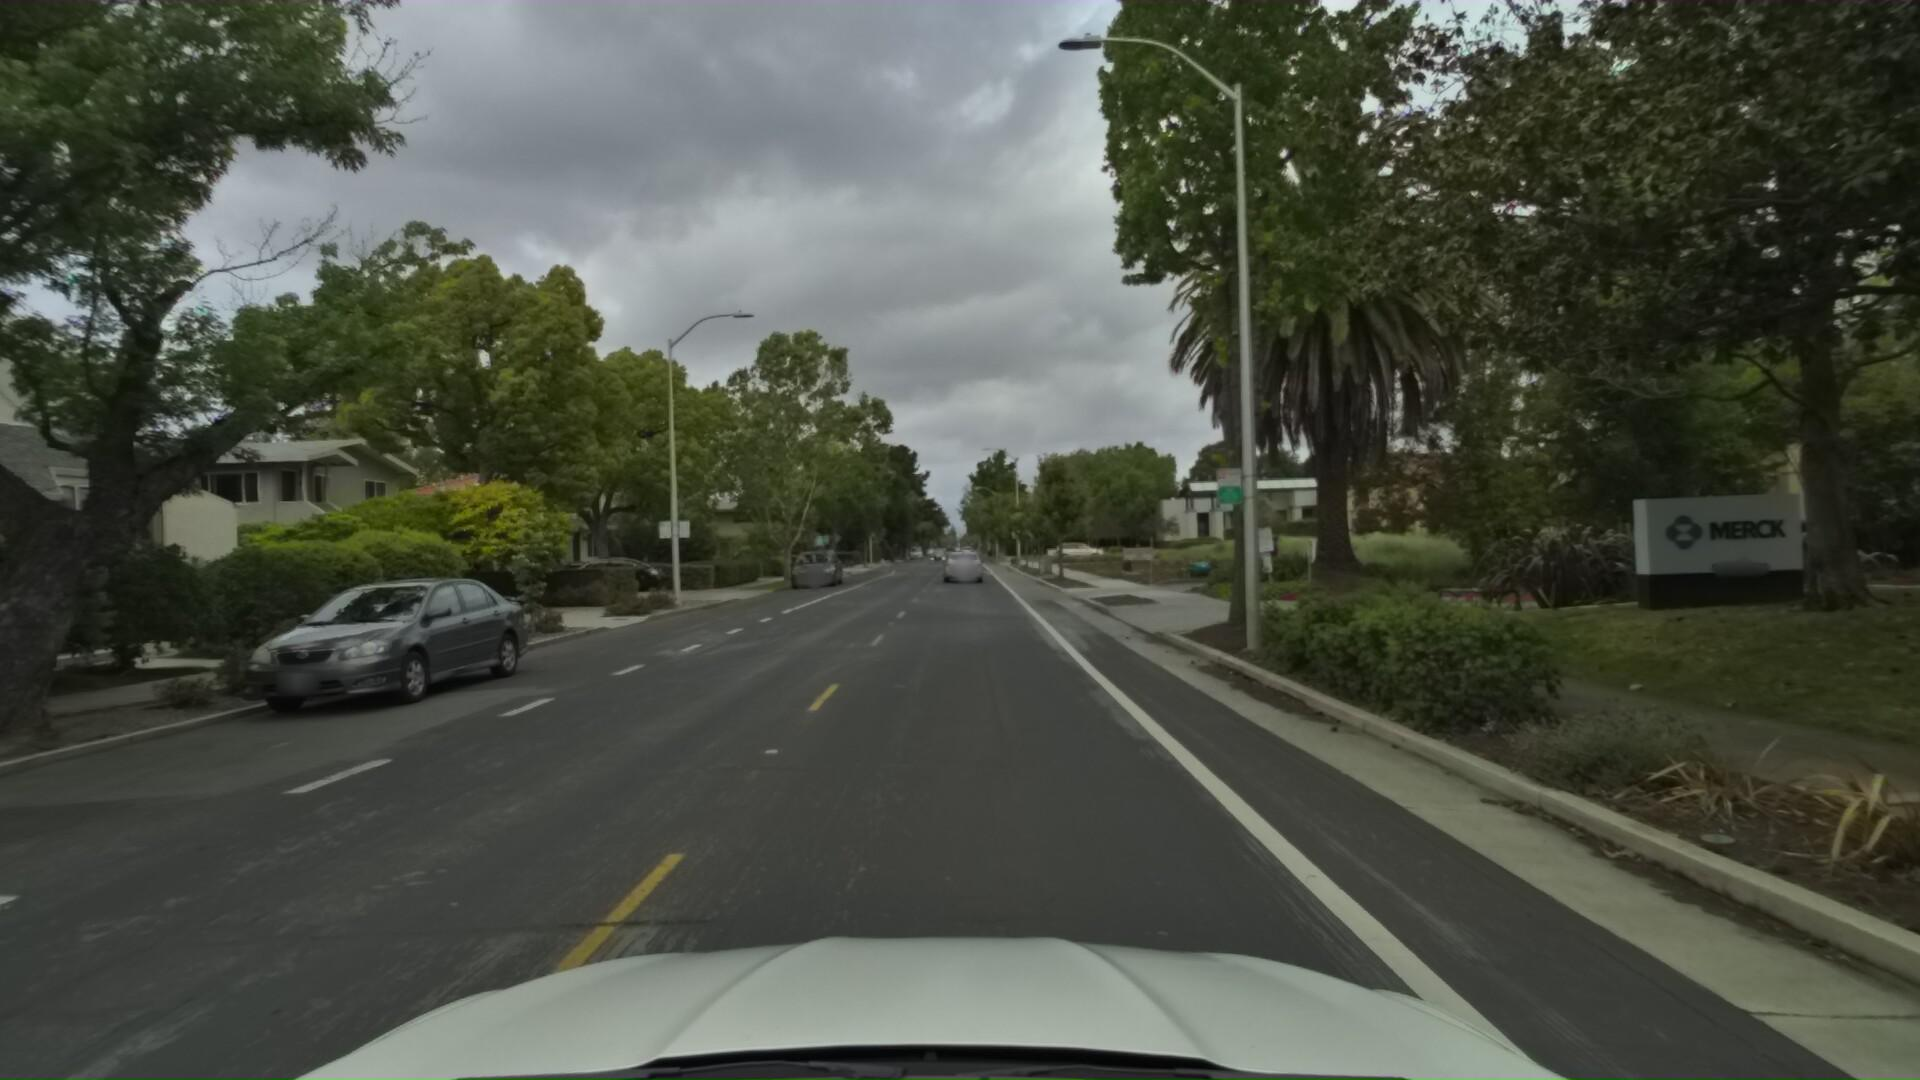car: (187, 559, 535, 717), (549, 545, 669, 585), (789, 537, 847, 580), (939, 541, 982, 583)
